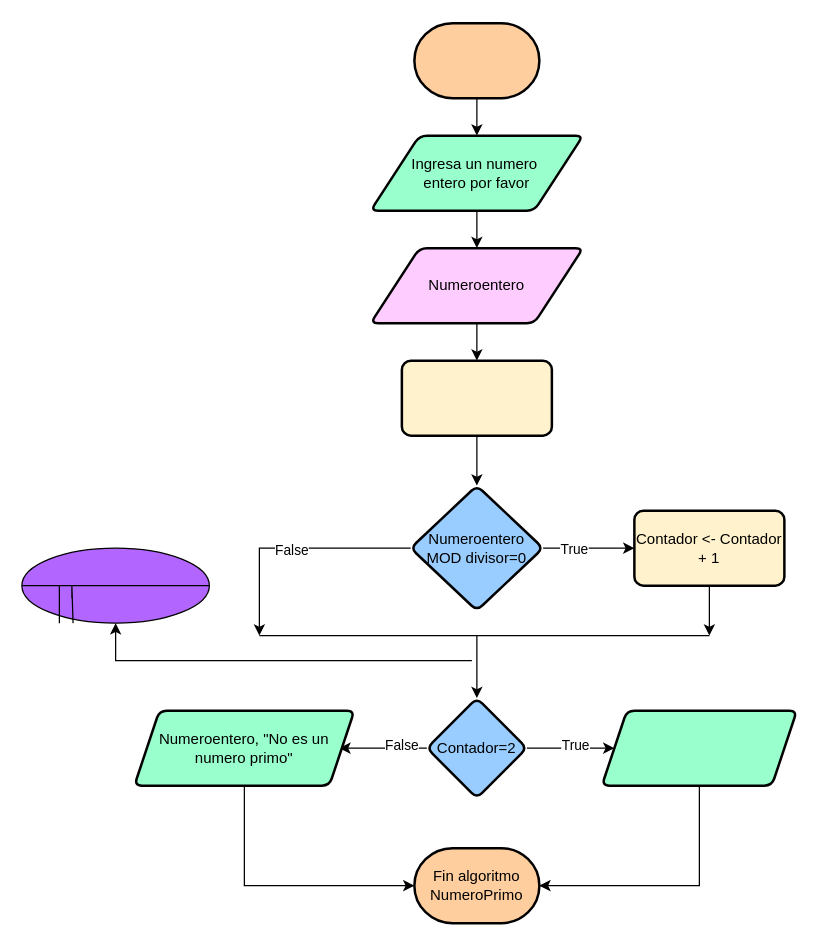
Some shapes in this 820 by 945 pixel diagram are drawn without their labels. Here are the shapes that lost their labels. From the top down, the centre of each, then its label:
(476,60): Algoritmo NumeroPrimo
(476,397): Contador <- 0
(115,585): Divisor 1 Numeroentero
(699,747): Numeroentero, "Es un numero primo"
